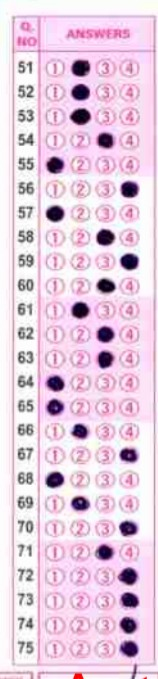filled circles: (118, 567, 137, 584), (70, 108, 90, 124), (96, 228, 114, 245), (72, 59, 89, 76), (71, 83, 89, 99), (119, 520, 137, 536), (120, 253, 138, 269), (71, 302, 88, 318), (46, 375, 63, 391), (47, 156, 63, 173), (46, 471, 63, 487), (121, 181, 138, 197), (120, 641, 138, 656), (95, 544, 113, 559), (120, 617, 136, 633), (97, 326, 113, 342), (97, 132, 113, 148), (47, 399, 63, 415), (46, 206, 63, 221), (121, 592, 138, 607), (71, 496, 89, 510), (98, 351, 113, 367), (71, 423, 87, 438), (97, 278, 114, 292), (120, 448, 137, 462)
